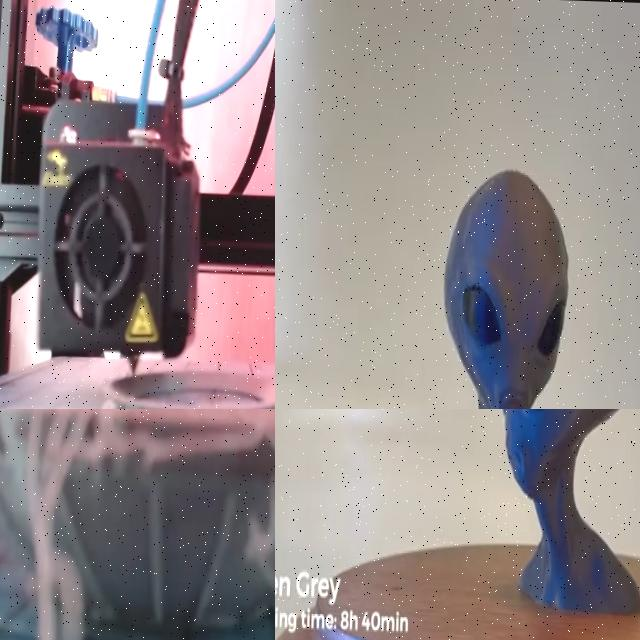spaghetti: (0, 409, 275, 640)
